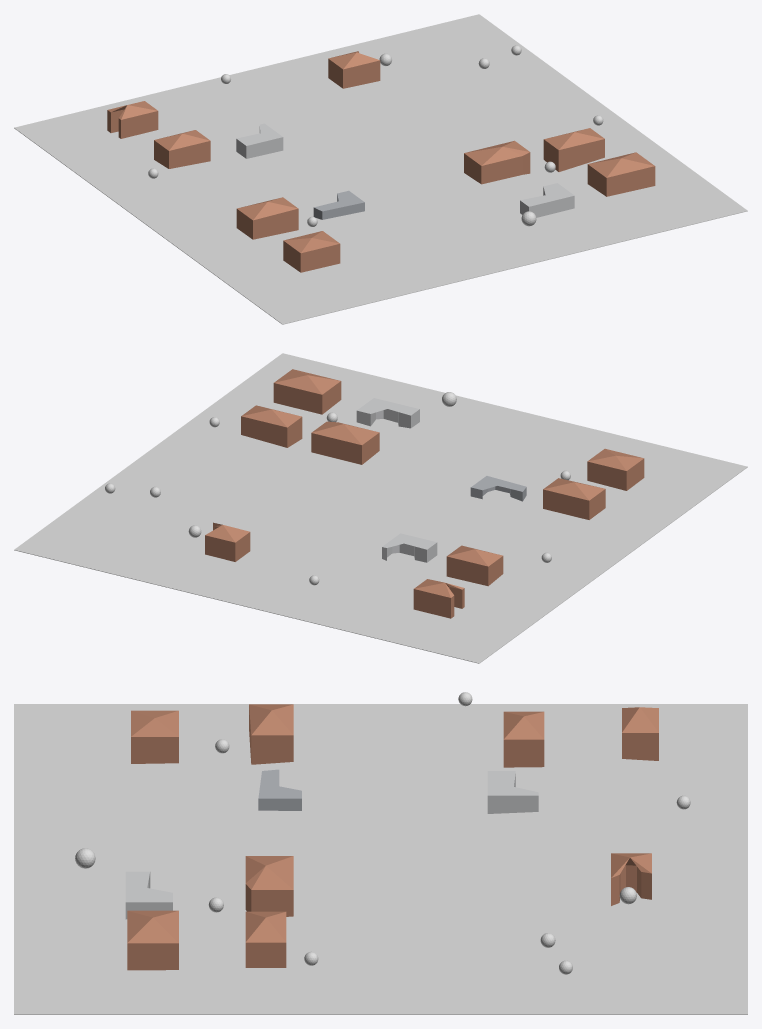
The model's file is scene_b233bc0c-6eab-444e-b5da-12fadda2aca5.glb.
3 renders of one model, top to bottom at view 1: azimuth 30°, elevation 25°; view 2: azimuth 150°, elevation 25°; view 3: azimuth 270°, elevation 25°, orthographic. The views are drawn at different scales.
Parts seen in each view (by area): view 1: Ground_Base, BLD-010, BLD-007, BLD-006, BLD-008, BLD-009, BLD-003, BLD-002, BLD-001, BLD-011, BLD-004, BLD-005; view 2: Ground_Base, BLD-010, BLD-007, BLD-006, BLD-008, BLD-009, BLD-003, BLD-001, BLD-002, BLD-011, BLD-004, BLD-005; view 3: Ground_Base, BLD-010, BLD-007, BLD-006, BLD-009, BLD-008, BLD-003, BLD-001, BLD-004, BLD-002, BLD-011, BLD-005.
Part boxes in pixels (x1,y1,x2,y2): Ground_Base: [14, 14, 747, 324]; BLD-010: [587, 152, 655, 196]; BLD-007: [464, 140, 530, 184]; BLD-006: [236, 197, 298, 239]; BLD-008: [543, 128, 604, 171]; BLD-009: [283, 231, 340, 272]; BLD-003: [154, 130, 210, 168]; BLD-002: [328, 51, 380, 88]; BLD-001: [107, 101, 158, 138]; BLD-011: [520, 183, 574, 217]; BLD-004: [236, 123, 283, 158]; BLD-005: [313, 190, 364, 219]; Ground_Base: [14, 353, 747, 663]; BLD-010: [273, 369, 341, 414]; BLD-007: [311, 421, 379, 464]; BLD-006: [543, 478, 605, 519]; BLD-008: [241, 405, 302, 447]; BLD-009: [587, 448, 644, 490]; BLD-003: [446, 545, 503, 586]; BLD-001: [413, 579, 464, 618]; BLD-002: [205, 522, 250, 561]; BLD-011: [356, 398, 419, 428]; BLD-004: [382, 533, 437, 562]; BLD-005: [470, 476, 526, 501]; Ground_Base: [14, 704, 747, 1014]; BLD-010: [127, 910, 178, 970]; BLD-007: [245, 856, 293, 916]; BLD-006: [249, 704, 293, 764]; BLD-009: [131, 710, 178, 763]; BLD-008: [245, 911, 286, 967]; BLD-003: [503, 711, 544, 767]; BLD-001: [622, 707, 658, 760]; BLD-004: [487, 771, 538, 813]; BLD-002: [611, 853, 651, 905]; BLD-011: [125, 871, 172, 919]; BLD-005: [258, 769, 301, 810].
Bounding box in the file's own units: 410 × 29.12 × 410.
